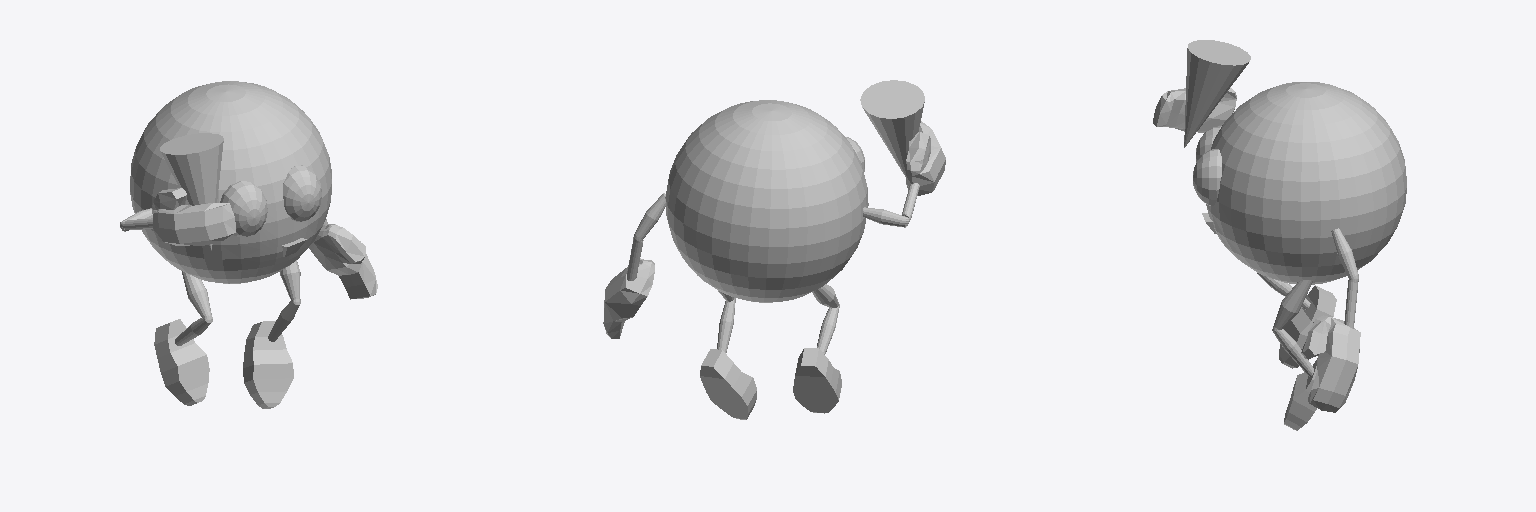
Rendered from runToStand_000020.obj.
3 views of the same model, side by side, from view 1: azimuth 30°, elevation 25°; view 2: azimuth 150°, elevation 25°; view 3: azimuth 270°, elevation 25° (orthographic).
Parts seen in each view (by area): view 1: Rusko_Sphere; view 2: Rusko_Sphere; view 3: Rusko_Sphere.
Part boxes in pixels (x1,y1,x2,y2): Rusko_Sphere: (120, 81, 377, 408); Rusko_Sphere: (603, 80, 945, 419); Rusko_Sphere: (1153, 40, 1406, 430).
Bounding box in the file's own units: 6.29 × 7.08 × 5.01.